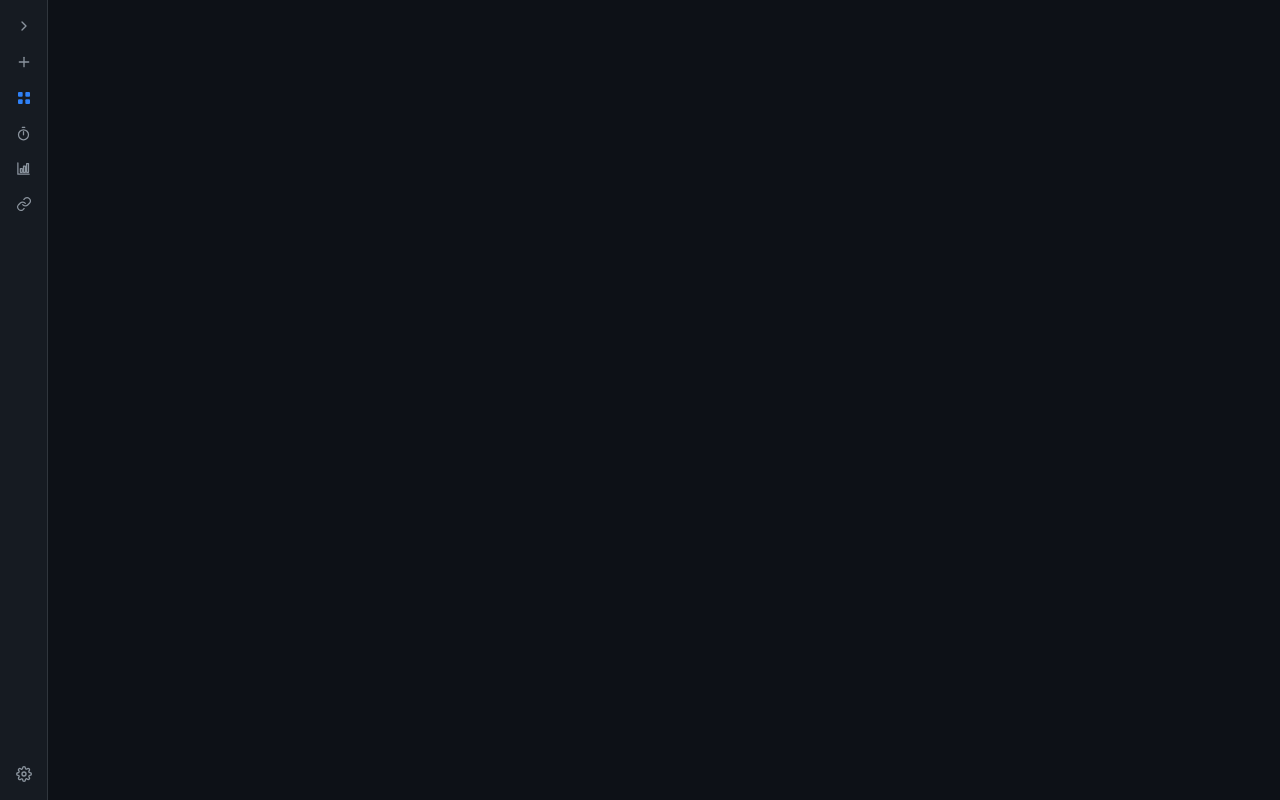
Test case: Sidebar plegado › sigue teniendo los ajustes, y el menú se abre de verdad
Click the button named "Ajustes" at (24, 774), box [10,760,38,788]
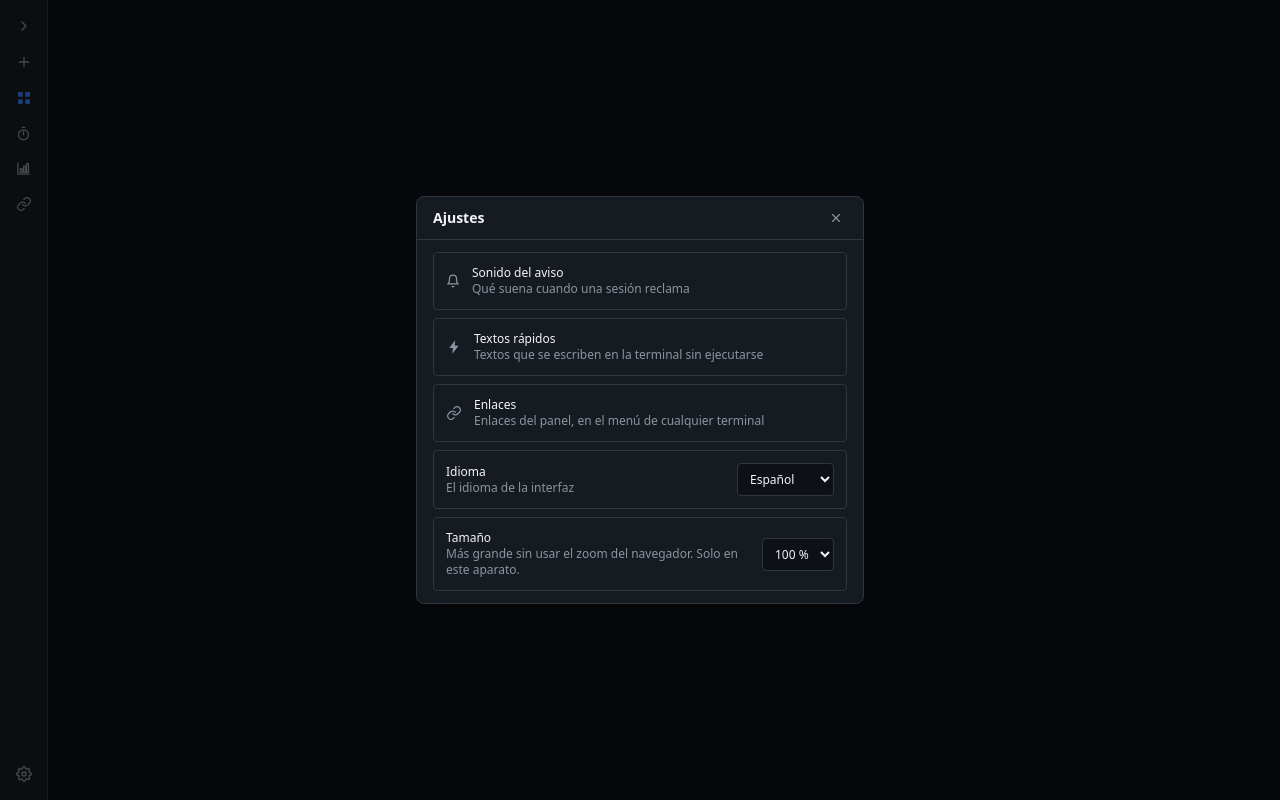
Expected: the text "Sonido del aviso" is shown, [472,264,563,281]
Expected: the text "Textos rápidos" is shown, [474,330,556,347]
Expected: the text "Enlaces" is shown, [474,396,516,413]
